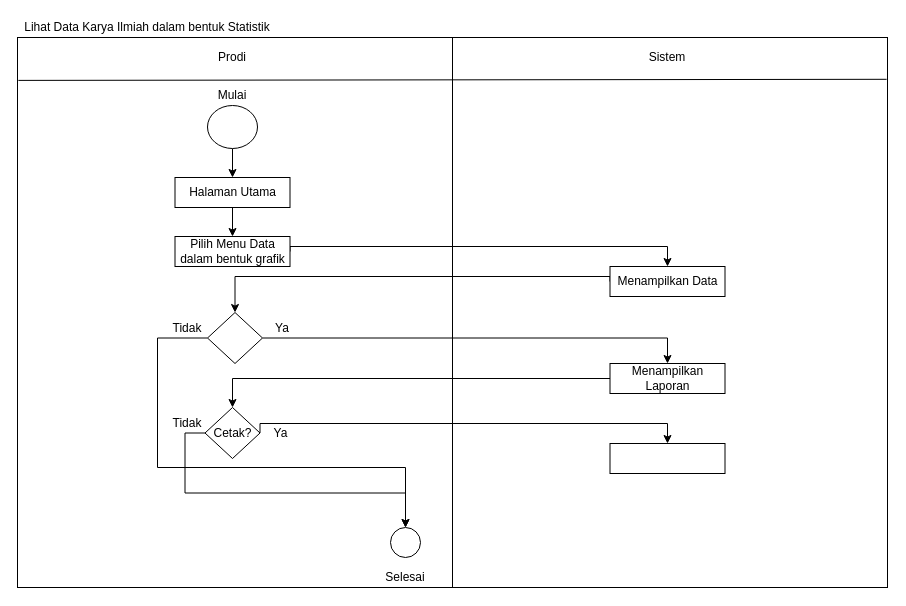
This 906x606 diagram has some shape labels left out. The shapes that lost their labels are listed below. From the top down, each one's centre as x and y in pixels, then its label:
the point at 234,338: Buat Laporan?
the point at 667,458: Memproses ke PDF
